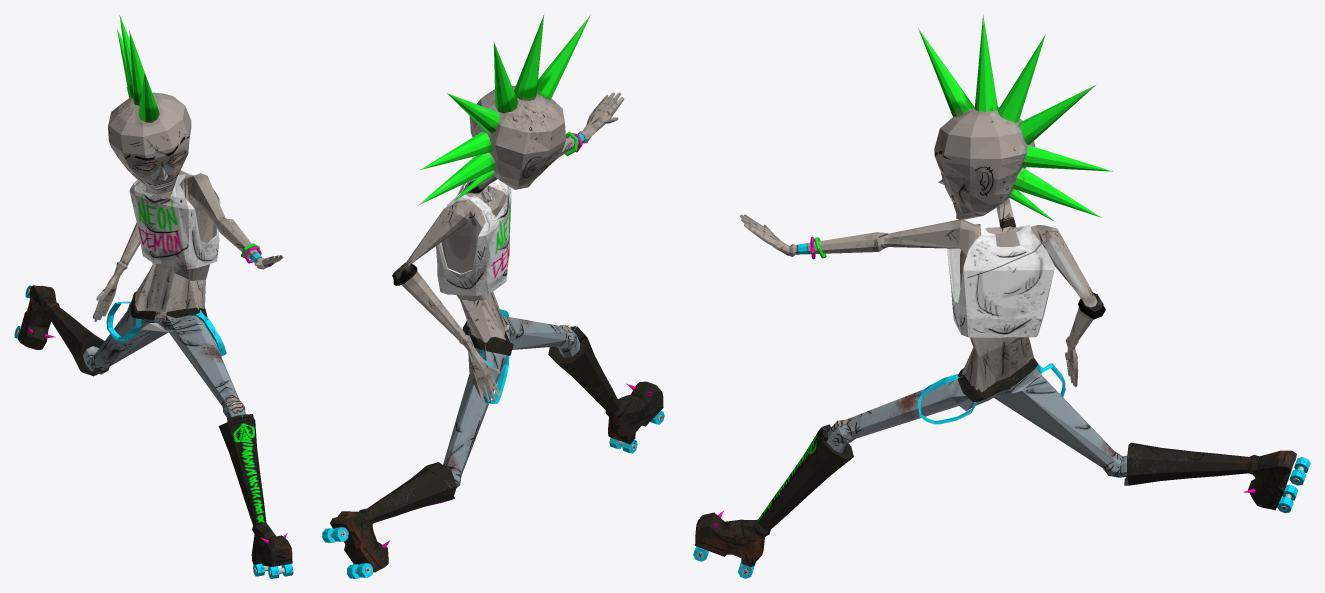
File: punkAnimation_000023.obj
The picture shows the model from 3 angles, left to right: view 1: azimuth 30°, elevation 25°; view 2: azimuth 150°, elevation 25°; view 3: azimuth 270°, elevation 25°; orthographic projection. The views are drawn at different scales.
Parts seen in each view (by area): view 1: Cube.004_Cube.003; view 2: Cube.004_Cube.003; view 3: Cube.004_Cube.003.
Part boxes in pixels (<box>): Cube.004_Cube.003: <box>14,15,293,578</box>; Cube.004_Cube.003: <box>322,14,664,578</box>; Cube.004_Cube.003: <box>693,14,1310,578</box>.
Size of the model in its own units: 1.39 by 6.29 by 6.49.
